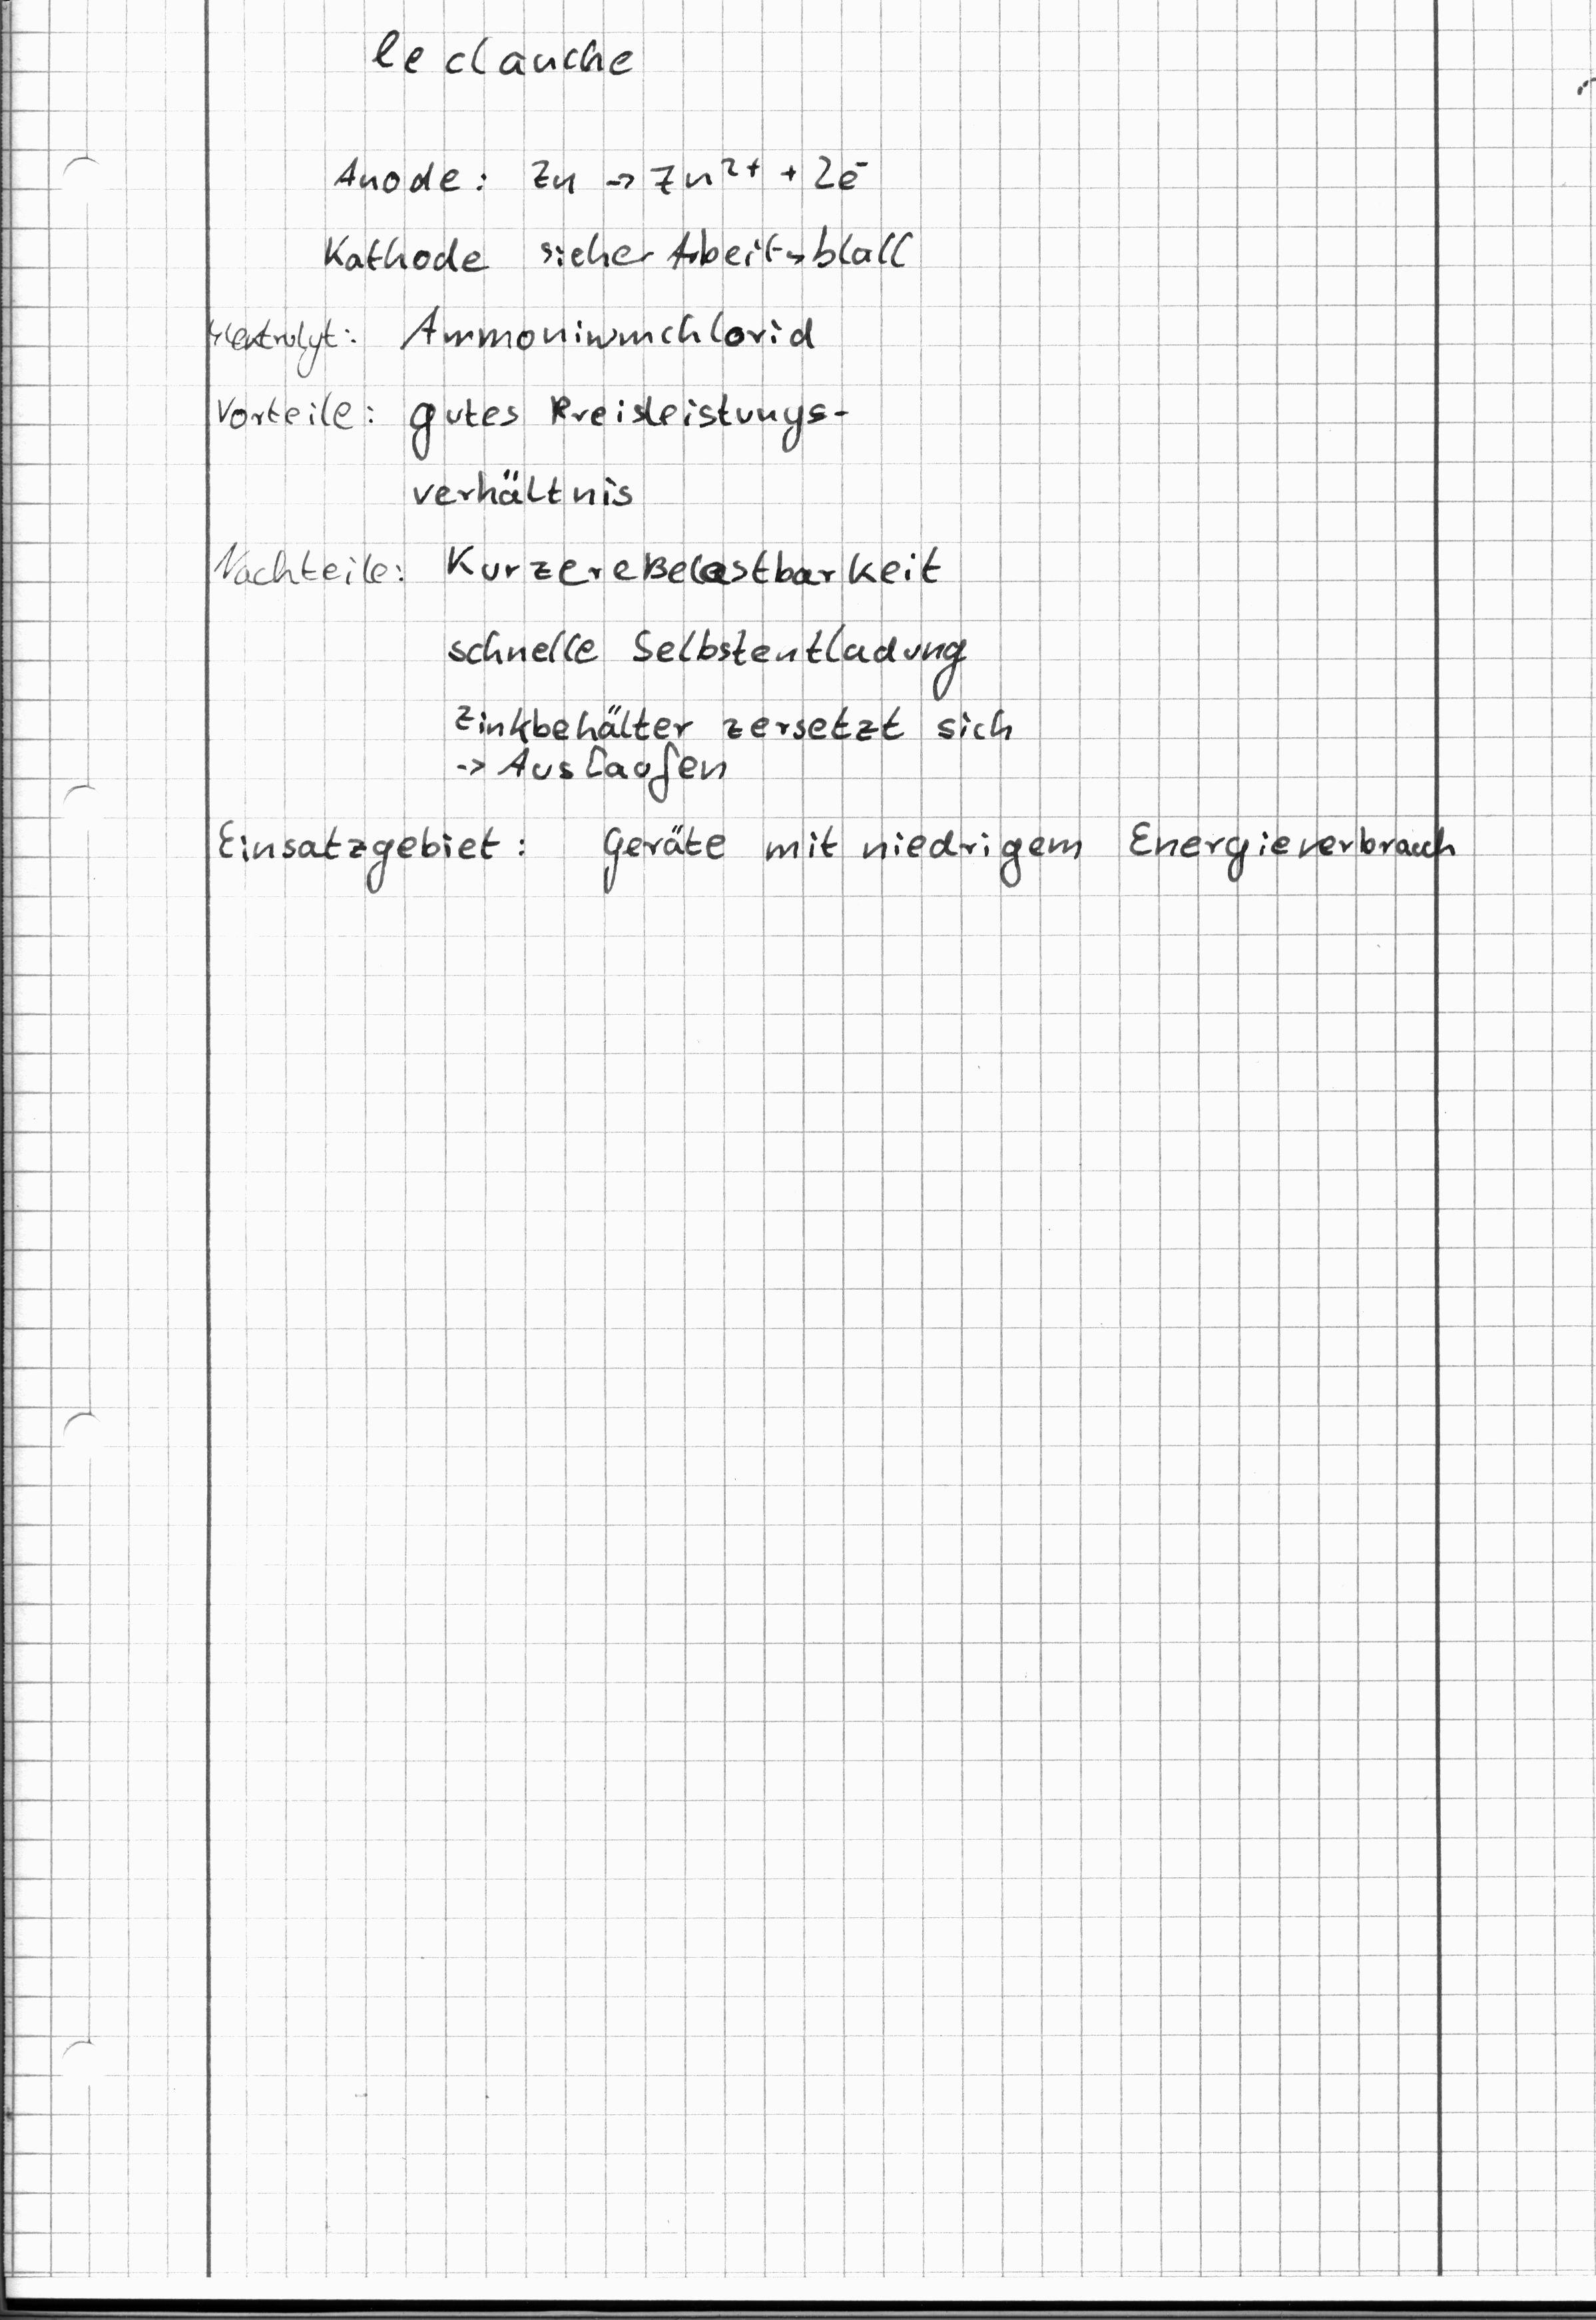word: (446, 551, 1037, 832), (311, 148, 934, 282), (595, 808, 1467, 900), (394, 381, 860, 527), (388, 294, 836, 368), (207, 804, 543, 897), (352, 7, 660, 96), (202, 519, 413, 603), (194, 294, 368, 386), (207, 381, 384, 439)
